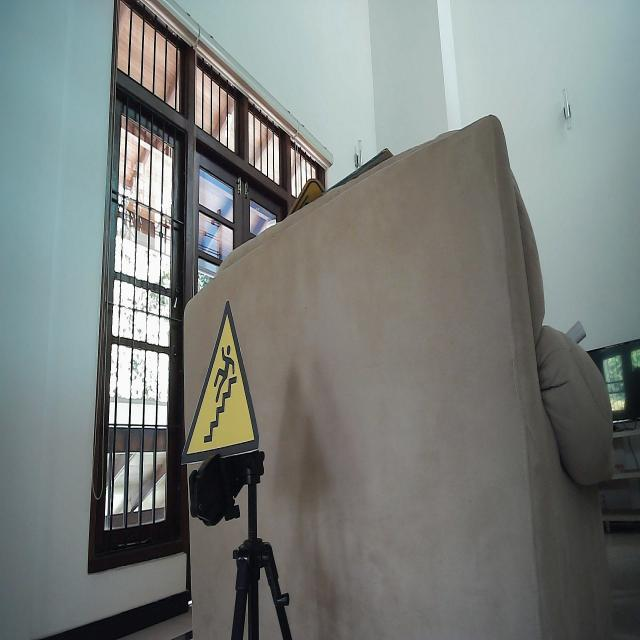stairs: (179, 297, 261, 467)
